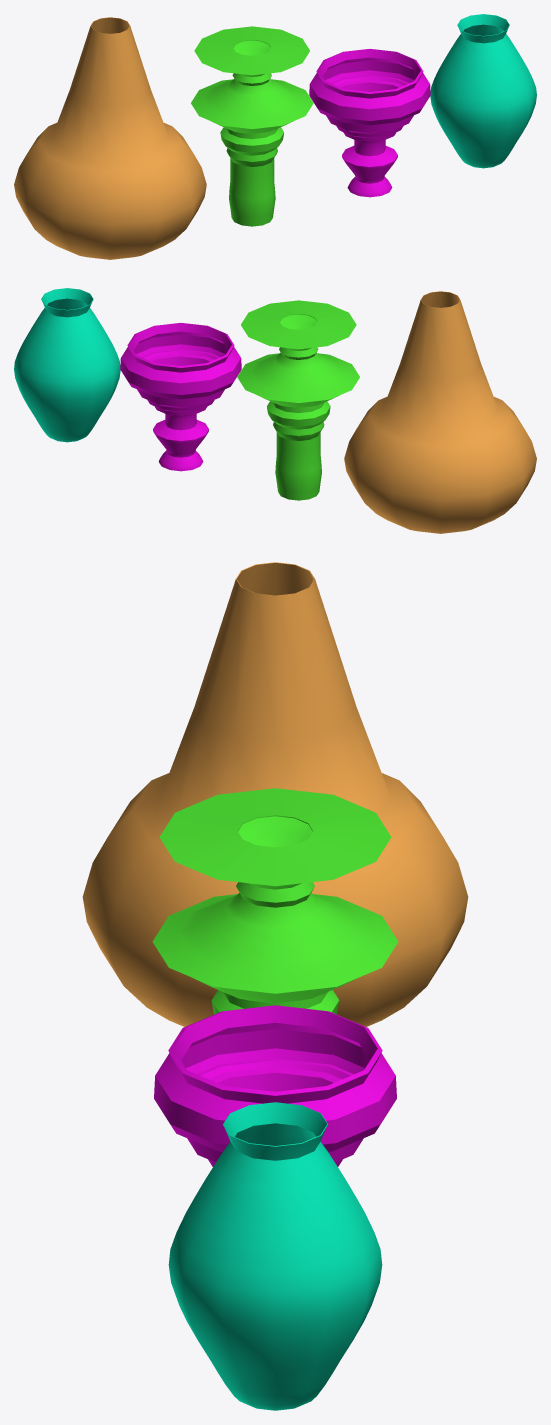
File: Vases6-9.fbx
3 renders of one model, top to bottom at view 1: azimuth 30°, elevation 25°; view 2: azimuth 150°, elevation 25°; view 3: azimuth 270°, elevation 25°, orthographic. The views are drawn at different scales.
Parts seen in each view (by area): view 1: Cube.006, Cube.007, Cube.009, Cube.008; view 2: Cube.006, Cube.007, Cube.009, Cube.008; view 3: Cube.006, Cube.009, Cube.007, Cube.008.
Part boxes in pixels (x1=…): Cube.006: x1=14, y1=17, x2=206, y2=259; Cube.007: x1=191, y1=26, x2=313, y2=226; Cube.009: x1=430, y1=14, x2=536, y2=168; Cube.008: x1=309, y1=49, x2=430, y2=197; Cube.006: x1=344, y1=291, x2=536, y2=533; Cube.007: x1=237, y1=300, x2=359, y2=500; Cube.009: x1=14, y1=288, x2=120, y2=442; Cube.008: x1=120, y1=323, x2=241, y2=471; Cube.006: x1=82, y1=562, x2=468, y2=1026; Cube.009: x1=168, y1=1102, x2=382, y2=1410; Cube.007: x1=152, y1=788, x2=398, y2=1014; Cube.008: x1=154, y1=1005, x2=396, y2=1166.
Bounding box in the file's own units: 1290 × 556 × 428.
